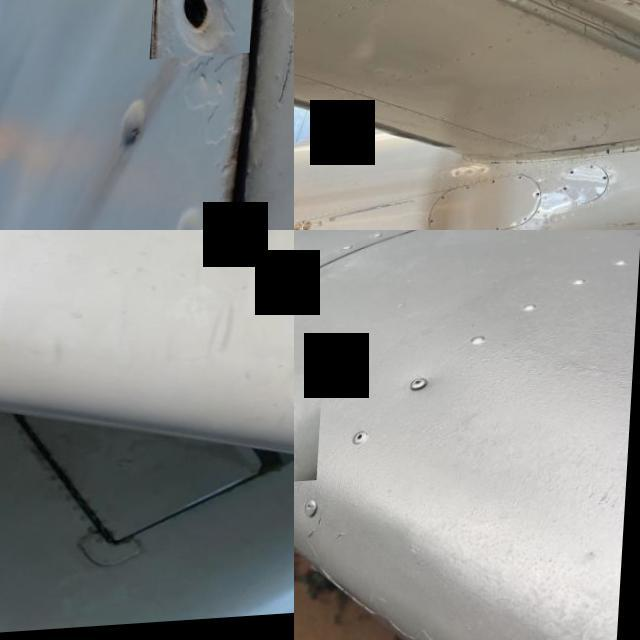Dent: (294, 377, 325, 490)
Missing_Fastener: (154, 0, 259, 62), (522, 182, 528, 185), (444, 201, 450, 204), (608, 184, 614, 186), (575, 178, 581, 180), (568, 194, 574, 196)
